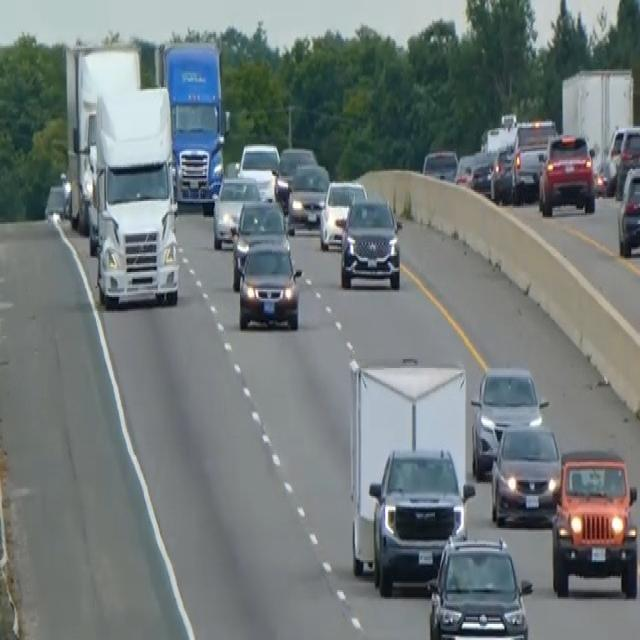car: (368, 444, 471, 596), (550, 446, 638, 599), (426, 534, 533, 638), (469, 363, 546, 478), (489, 422, 562, 526), (237, 237, 302, 331), (339, 196, 402, 290), (229, 196, 290, 288), (537, 130, 596, 217), (511, 117, 557, 201), (211, 172, 260, 249), (318, 176, 367, 251), (286, 162, 330, 233), (273, 144, 316, 208), (602, 121, 639, 192), (237, 141, 280, 199), (616, 162, 639, 256), (489, 140, 515, 202), (421, 146, 458, 181), (469, 149, 495, 194), (43, 183, 65, 222), (454, 149, 475, 187)
lorry: (85, 83, 180, 310), (159, 38, 228, 212)
